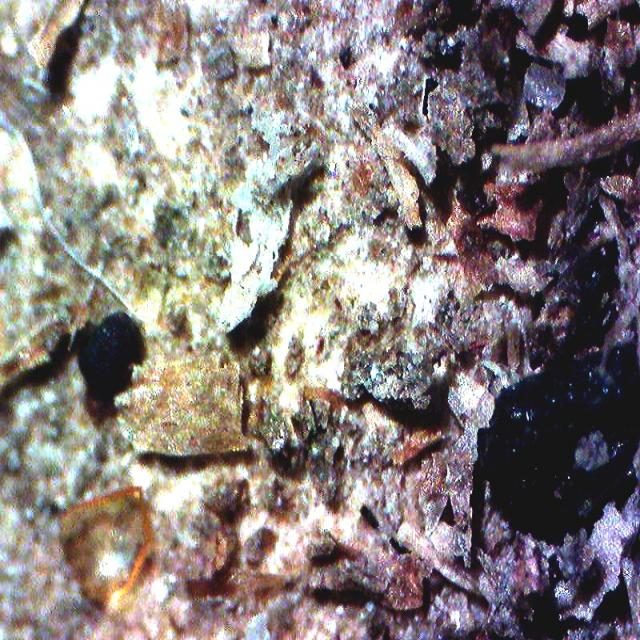microplastic: (57, 488, 149, 619)
